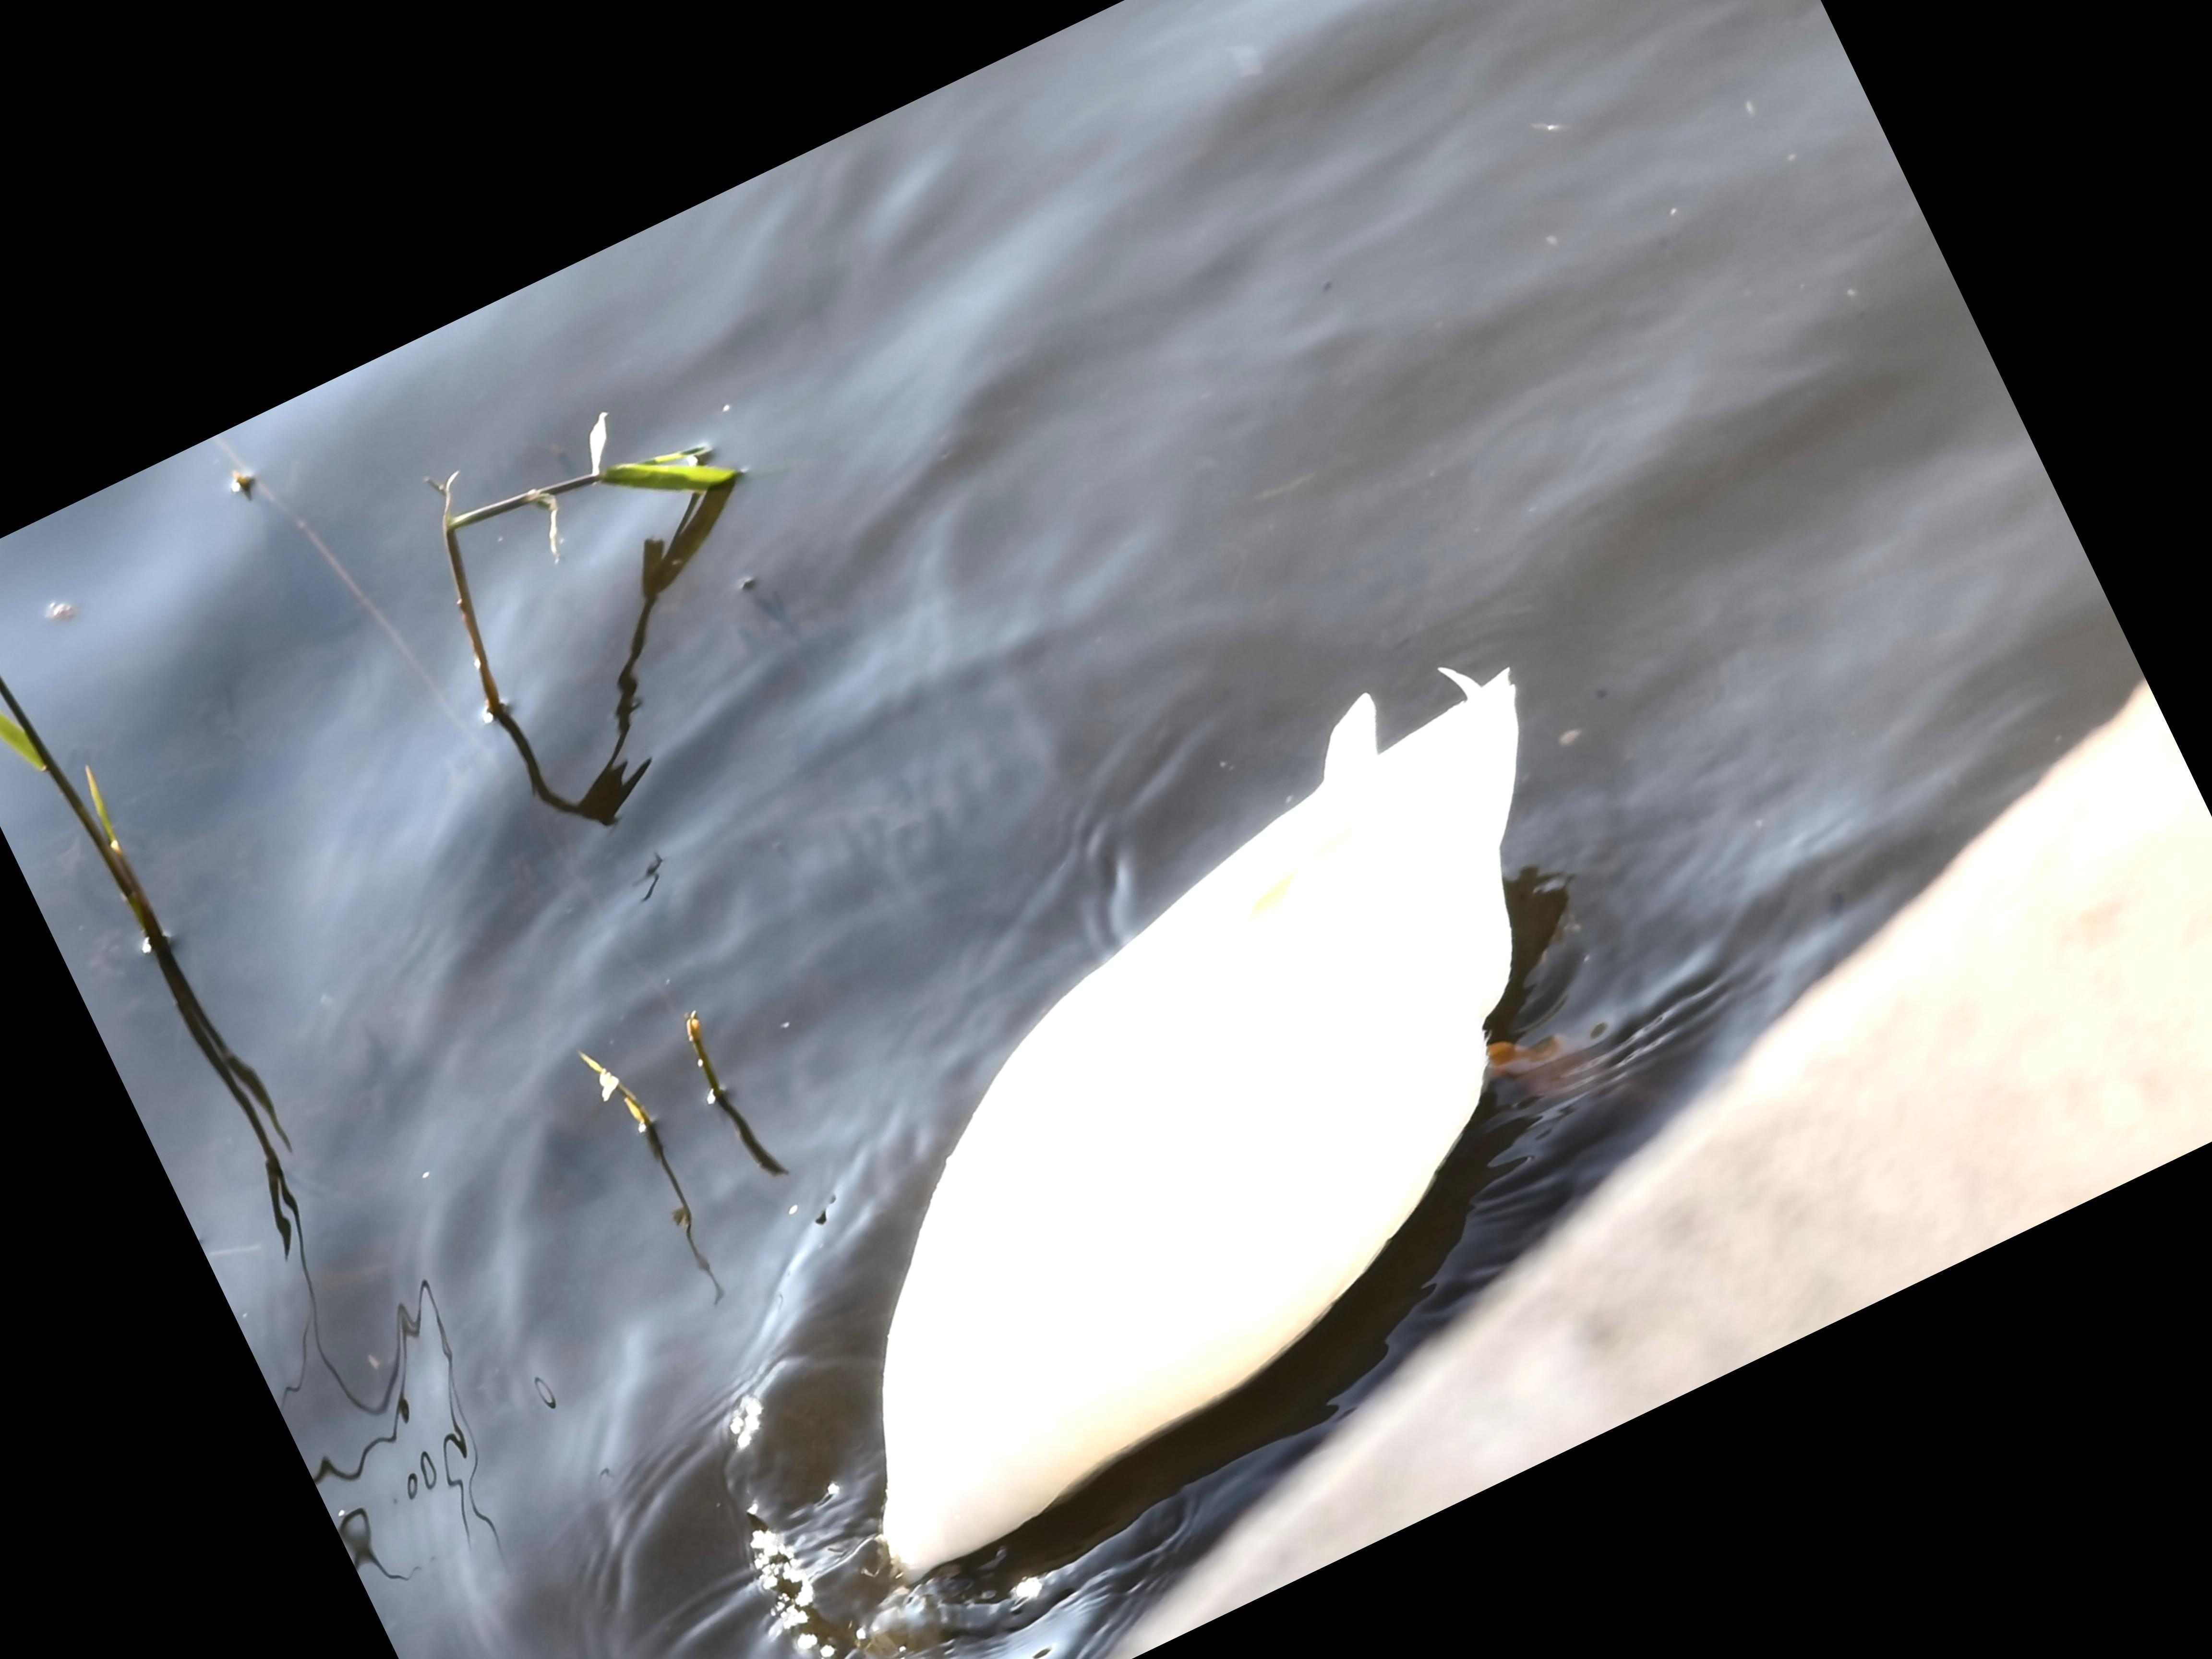duck: (599, 598, 1811, 1643)
